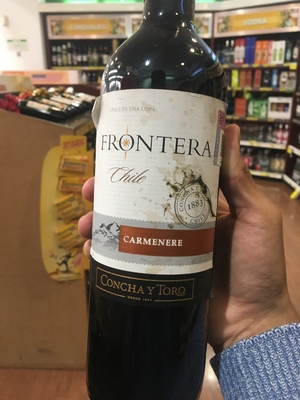frontera carmenere: (91, 2, 227, 400)
